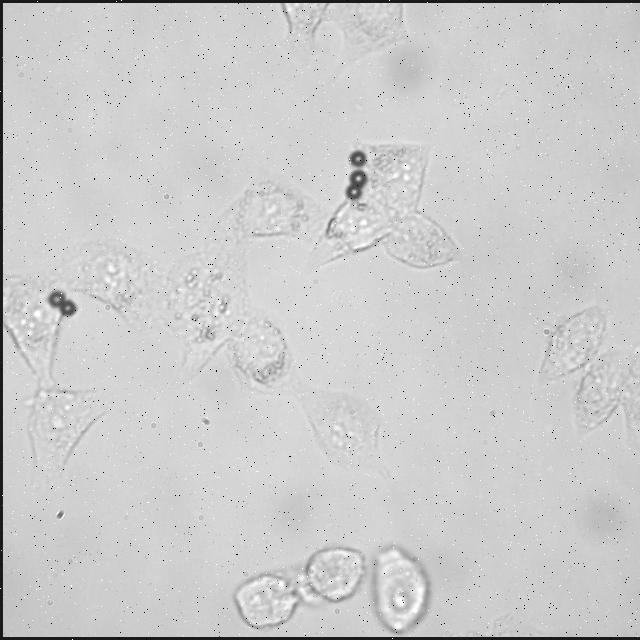microbeads: (346, 183, 362, 207), (350, 148, 364, 170)
